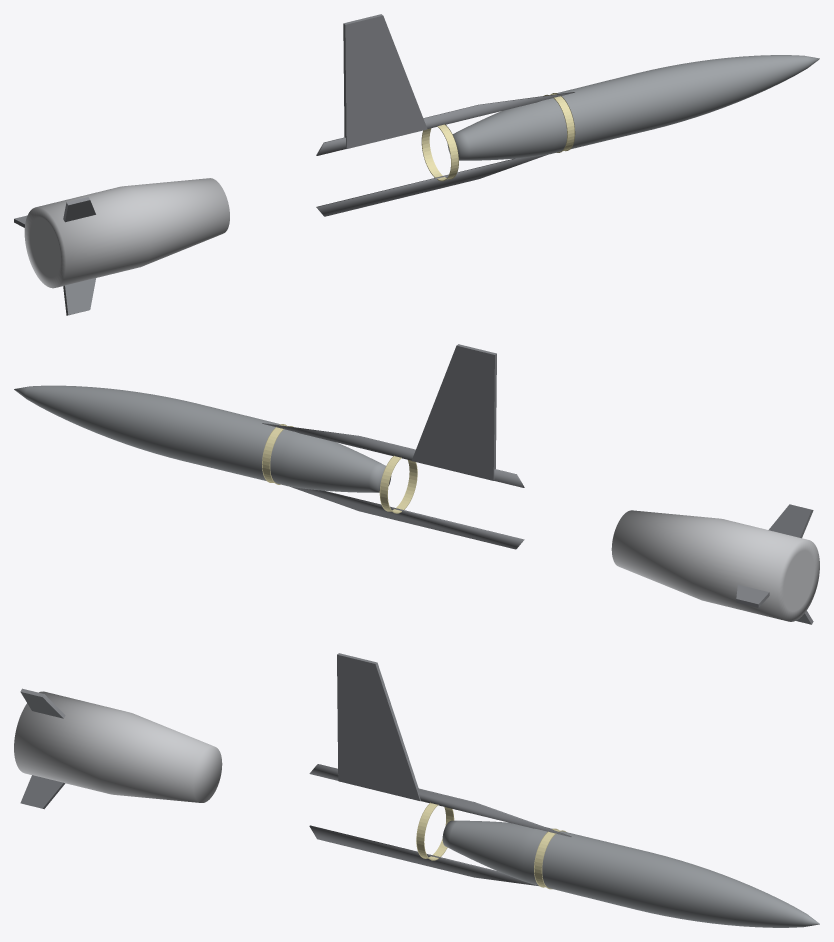
Rendered from RU_LAM_Granat_LOD0.fbx.
The picture shows the model from 3 angles, top to bottom: view 1: azimuth 30°, elevation 25°; view 2: azimuth 150°, elevation 25°; view 3: azimuth 330°, elevation 25°; orthographic projection.
Visible parts, largest first — view 1: WPN_RU_LAM_Granat_LOD0_Body, WPN_RU_LAM_Granat_LOD0_Tail, WPN_RU_LAM_Granat_LOD0_Wings, WPN_RU_LAM_Granat_LOD0_Detail, WPN_RU_LAM_Granat_LOD0_Fins, WPN_RU_LAM_Granat_LOD0_Marking; view 2: WPN_RU_LAM_Granat_LOD0_Body, WPN_RU_LAM_Granat_LOD0_Tail, WPN_RU_LAM_Granat_LOD0_Wings, WPN_RU_LAM_Granat_LOD0_Detail, WPN_RU_LAM_Granat_LOD0_Fins, WPN_RU_LAM_Granat_LOD0_Marking; view 3: WPN_RU_LAM_Granat_LOD0_Body, WPN_RU_LAM_Granat_LOD0_Tail, WPN_RU_LAM_Granat_LOD0_Wings, WPN_RU_LAM_Granat_LOD0_Detail, WPN_RU_LAM_Granat_LOD0_Fins, WPN_RU_LAM_Granat_LOD0_Marking.
Part boxes in pixels (bbox=[...]): WPN_RU_LAM_Granat_LOD0_Body: bbox=[447, 55, 819, 160]; WPN_RU_LAM_Granat_LOD0_Tail: bbox=[24, 178, 229, 288]; WPN_RU_LAM_Granat_LOD0_Wings: bbox=[343, 14, 427, 148]; WPN_RU_LAM_Granat_LOD0_Detail: bbox=[316, 92, 574, 216]; WPN_RU_LAM_Granat_LOD0_Fins: bbox=[14, 197, 95, 315]; WPN_RU_LAM_Granat_LOD0_Marking: bbox=[421, 93, 575, 181]; WPN_RU_LAM_Granat_LOD0_Body: bbox=[14, 385, 391, 492]; WPN_RU_LAM_Granat_LOD0_Tail: bbox=[611, 510, 819, 621]; WPN_RU_LAM_Granat_LOD0_Wings: bbox=[411, 344, 496, 480]; WPN_RU_LAM_Granat_LOD0_Detail: bbox=[262, 423, 524, 549]; WPN_RU_LAM_Granat_LOD0_Fins: bbox=[736, 504, 813, 624]; WPN_RU_LAM_Granat_LOD0_Marking: bbox=[262, 424, 417, 513]; WPN_RU_LAM_Granat_LOD0_Body: bbox=[442, 820, 819, 927]; WPN_RU_LAM_Granat_LOD0_Tail: bbox=[14, 691, 222, 802]; WPN_RU_LAM_Granat_LOD0_Wings: bbox=[337, 653, 420, 801]; WPN_RU_LAM_Granat_LOD0_Detail: bbox=[309, 764, 571, 885]; WPN_RU_LAM_Granat_LOD0_Fins: bbox=[20, 688, 65, 809]; WPN_RU_LAM_Granat_LOD0_Marking: bbox=[416, 802, 565, 889].
Bounding box in the file's own units: 8.1 × 1.02 × 2.07.
